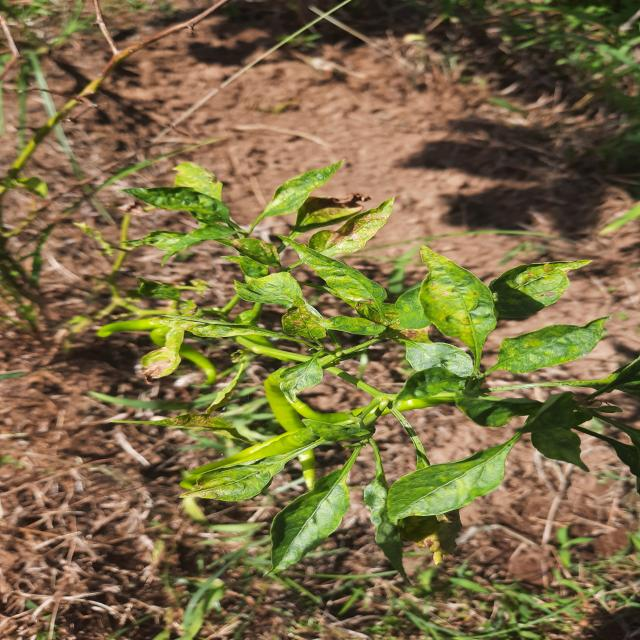bercak_daun: (279, 185, 432, 268), (518, 250, 590, 308), (273, 296, 337, 345), (124, 346, 186, 381)
